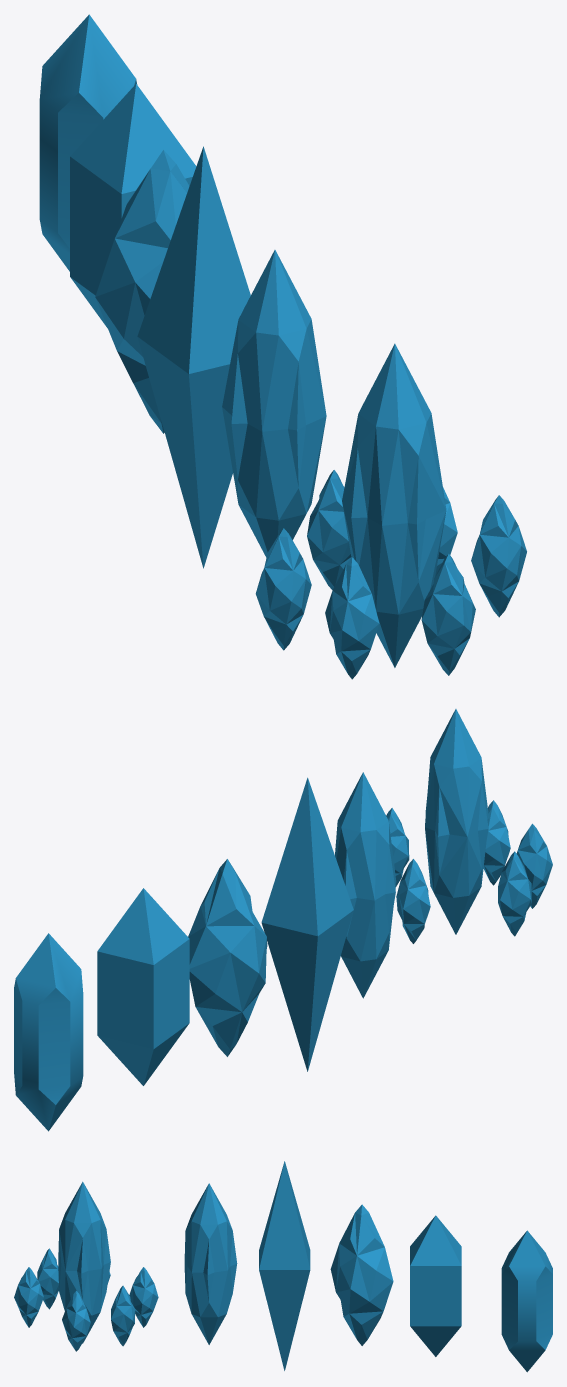
The model's file is krst2.FBX.
3 renders of one model, top to bottom at view 1: azimuth 30°, elevation 25°; view 2: azimuth 150°, elevation 25°; view 3: azimuth 270°, elevation 25°, orthographic. The views are drawn at different scales.
Visible parts, largest first — view 1: krst1, krst3, krst2, krst6, krst7, krst4; view 2: krst1, krst3, krst6, krst7, krst4, krst2; view 3: krst1, krst3, krst2, krst6, krst7, krst4.
Part boxes in pixels (<box>): krst1: <box>255,343,526,679</box>; krst3: <box>137,146,250,568</box>; krst2: <box>222,250,326,557</box>; krst6: <box>70,84,196,328</box>; krst7: <box>39,14,137,271</box>; krst4: <box>95,150,189,433</box>; krst1: <box>386,709,552,943</box>; krst3: <box>261,777,353,1071</box>; krst6: <box>97,888,189,1085</box>; krst7: <box>14,933,83,1131</box>; krst4: <box>188,859,267,1056</box>; krst2: <box>335,772,396,998</box>; krst1: <box>14,1181,158,1351</box>; krst3: <box>259,1161,310,1370</box>; krst2: <box>184,1183,237,1344</box>; krst6: <box>410,1215,461,1356</box>; krst7: <box>501,1230,552,1372</box>; krst4: <box>330,1204,393,1345</box>.
Size of the model in its own units: 70.16 by 93.72 by 216.
